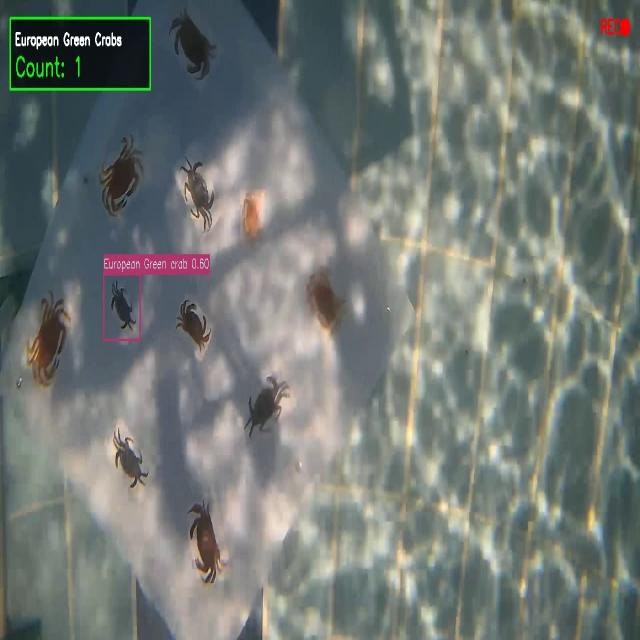European_Green_Crab: (239, 362, 293, 460), (173, 144, 225, 236), (105, 424, 154, 502), (102, 267, 142, 342)
